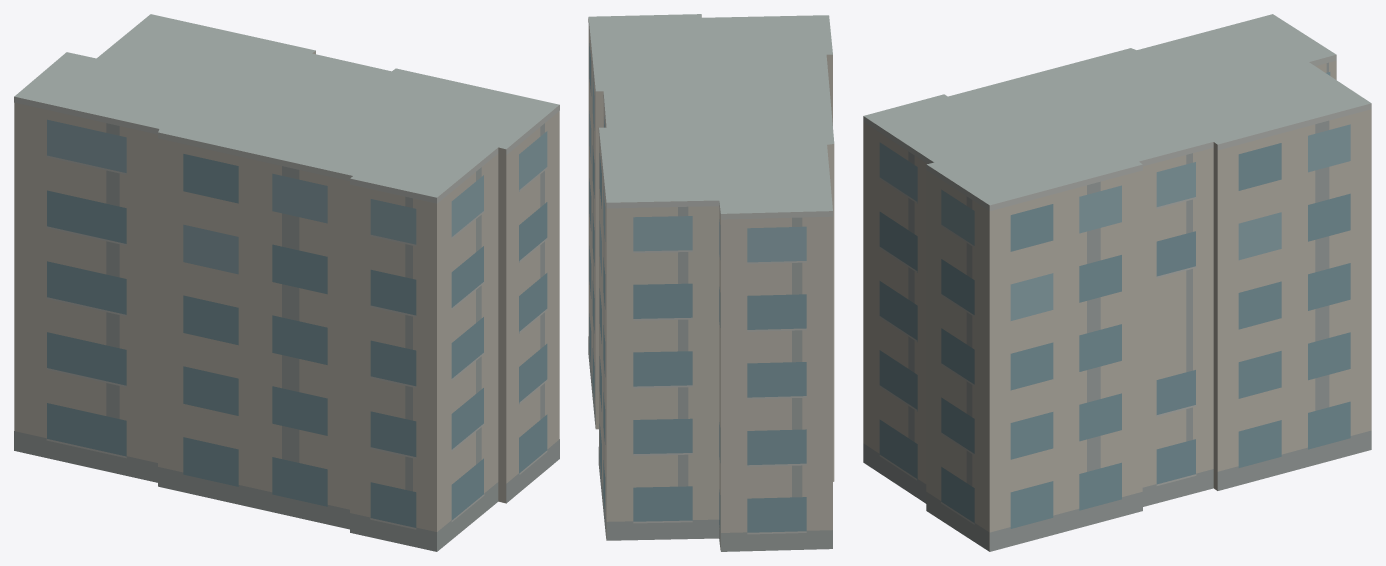
File: survey-upis-32975012.glb
3 renders of one model, left to right at view 1: azimuth 30°, elevation 25°; view 2: azimuth 150°, elevation 25°; view 3: azimuth 270°, elevation 25°, orthographic. The views are drawn at different scales.
Parts seen in each view (by area): view 1: survey-upis-32975012.tmp; view 2: survey-upis-32975012.tmp; view 3: survey-upis-32975012.tmp.
Part boxes in pixels (box(x1,y1,x2,y2)): survey-upis-32975012.tmp: box(14, 14, 559, 551); survey-upis-32975012.tmp: box(588, 14, 834, 551); survey-upis-32975012.tmp: box(863, 14, 1371, 551).
Bounding box in the file's own units: 17.18 × 14.5 × 19.29.
